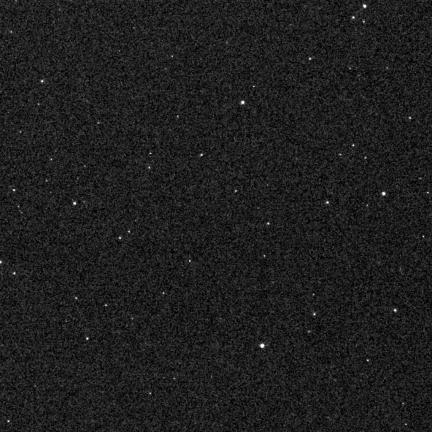blob: (260, 343, 266, 349), (382, 192, 386, 195), (241, 101, 244, 104)
